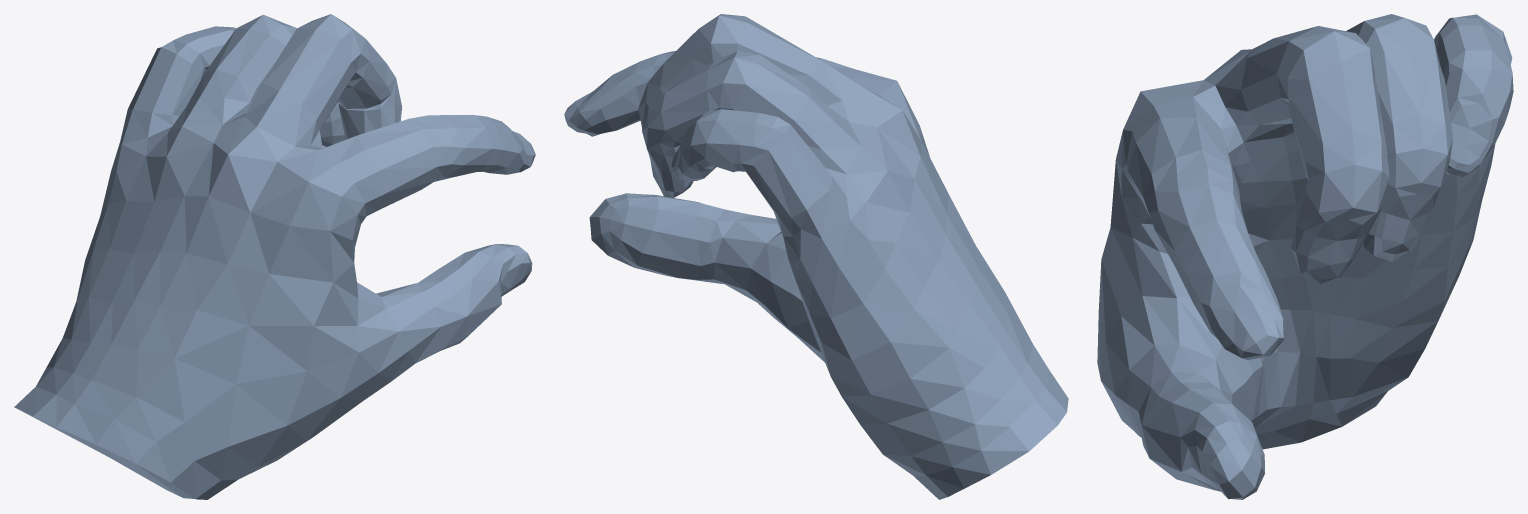
The picture shows the model from 3 angles, left to right: view 1: azimuth 30°, elevation 25°; view 2: azimuth 150°, elevation 25°; view 3: azimuth 270°, elevation 25°; orthographic projection. The views are drawn at different scales.
Size of the model in its own units: 0.1567 by 0.1274 by 0.0884.
